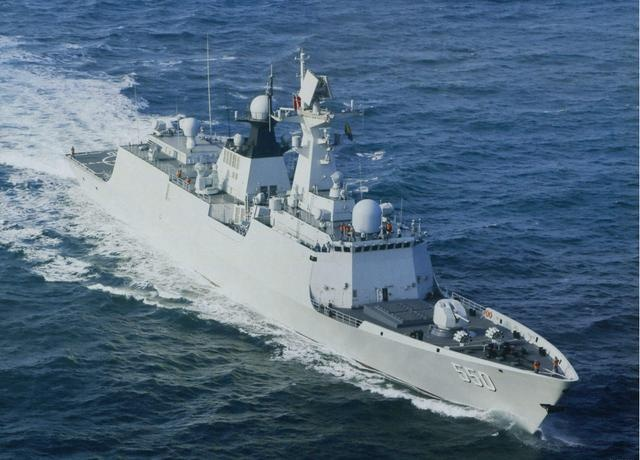warship: (59, 33, 581, 434)
